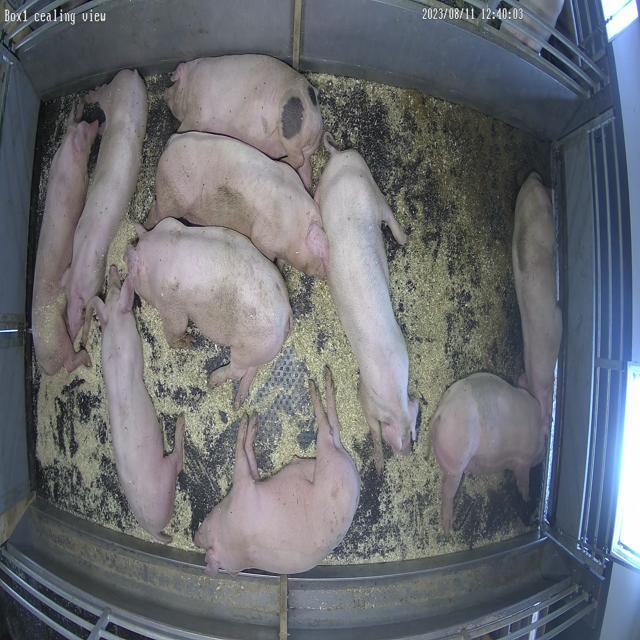Dirt: (416, 96, 548, 244)
Pig: (194, 368, 361, 576), (316, 139, 419, 472), (127, 218, 292, 406), (146, 131, 328, 278), (92, 266, 184, 542), (66, 70, 147, 342), (165, 54, 324, 184), (31, 121, 98, 375)
